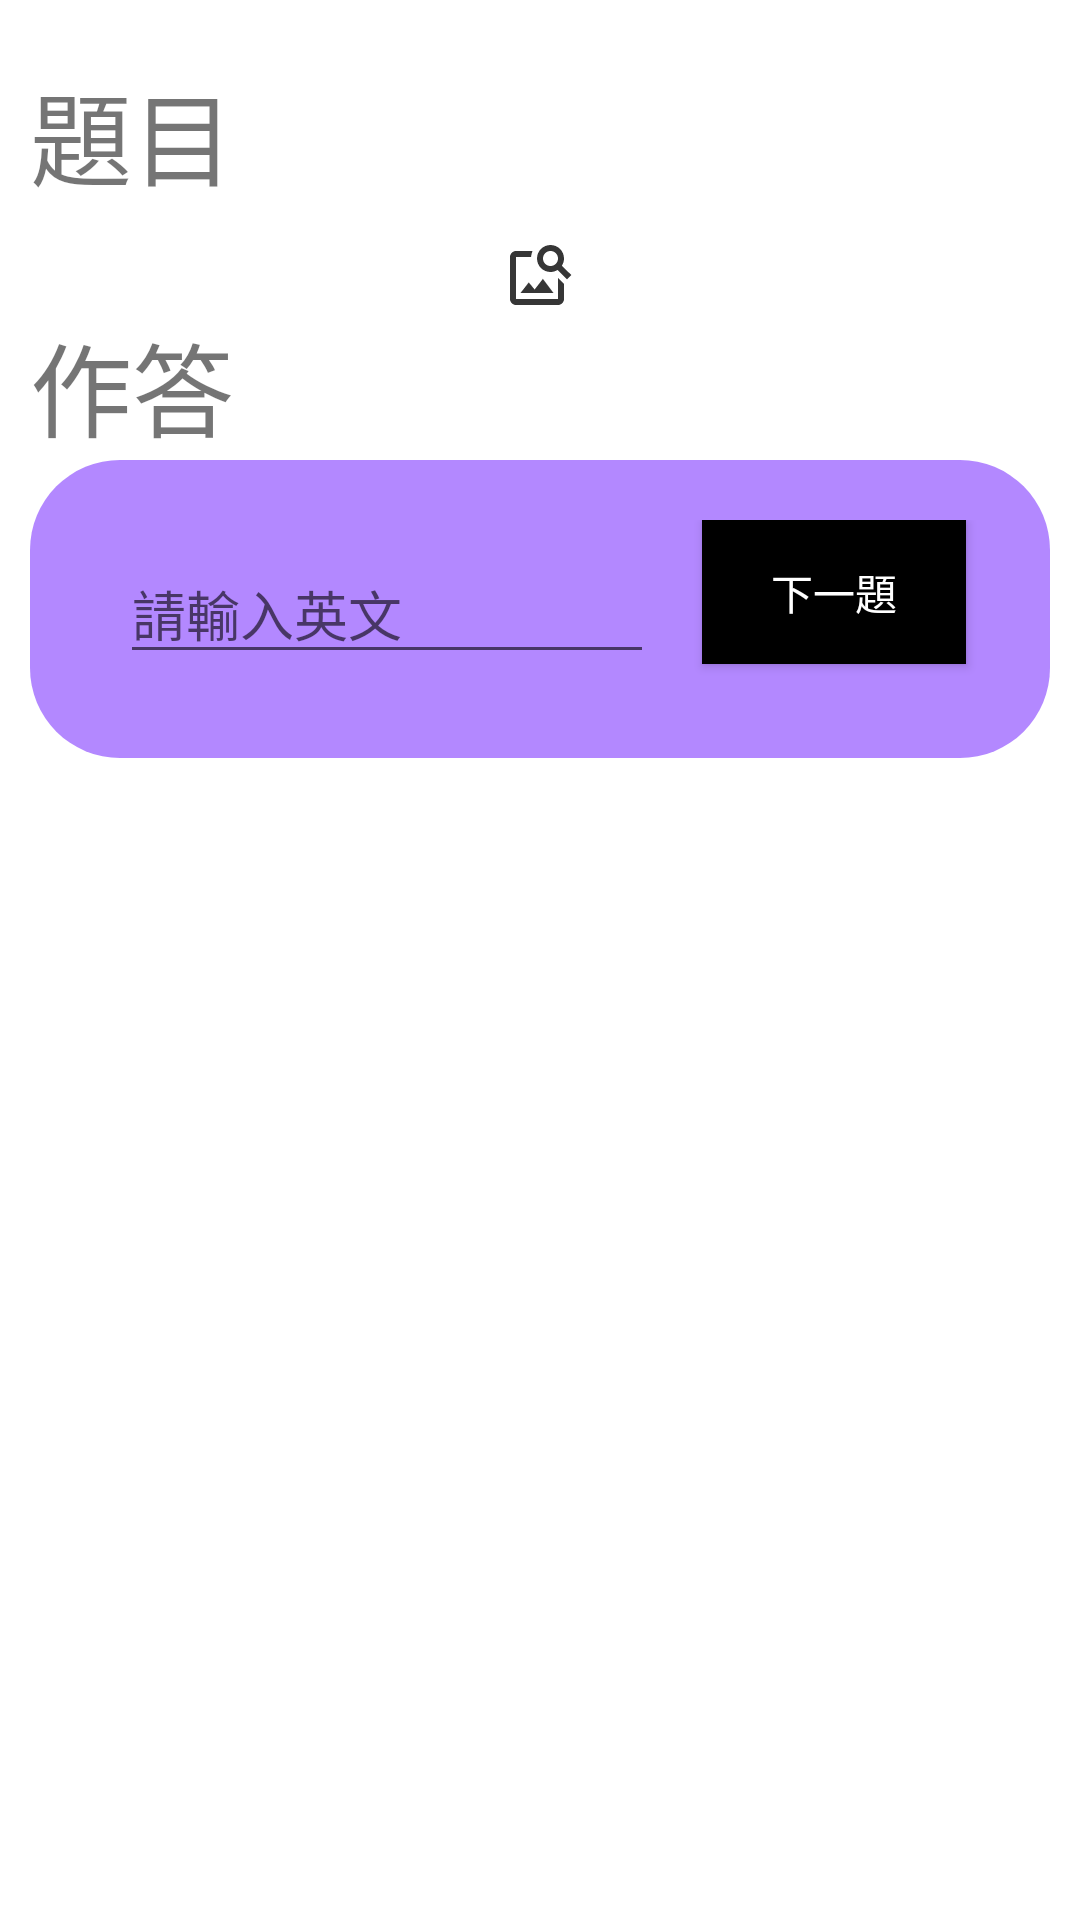

Locate icon controls on the screen. Image size 1080*1920, boxes as (x1, y1, x2, y2).
search: (510, 245, 571, 305)
